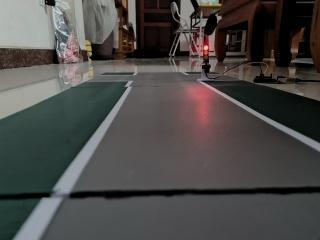red: (200, 41, 214, 76)
